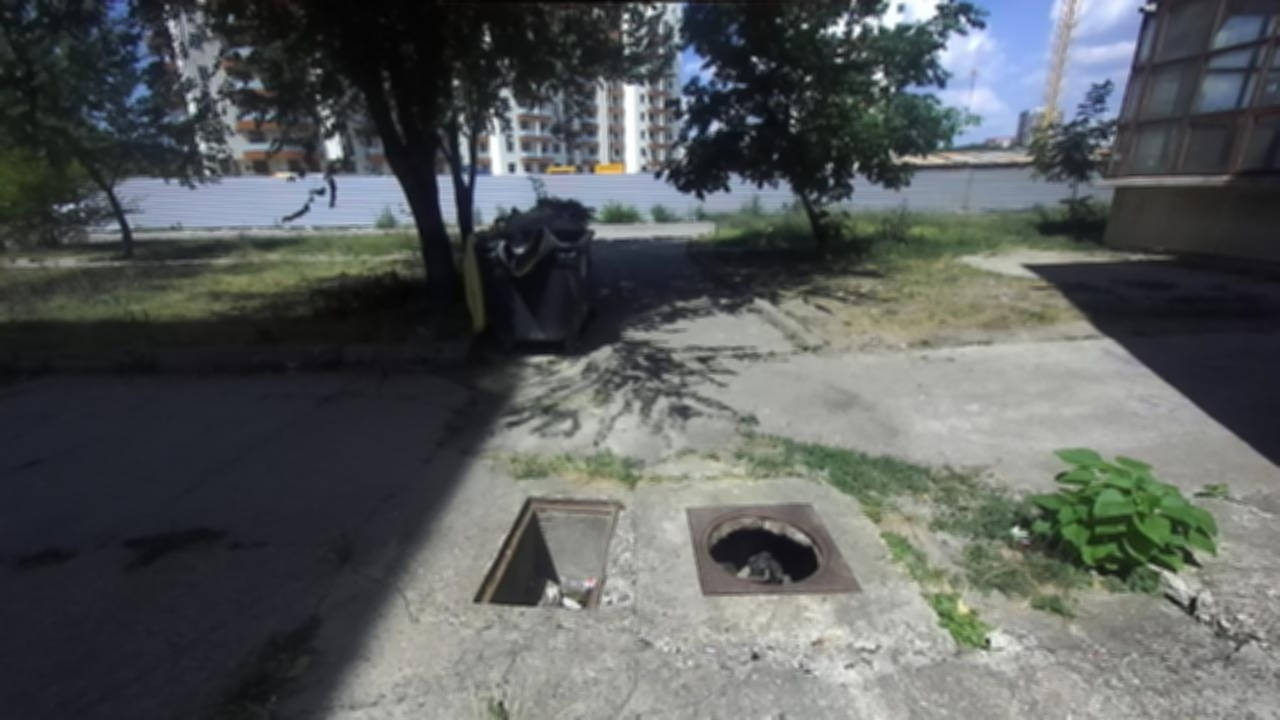drain: (466, 495, 626, 608), (699, 503, 833, 587)
